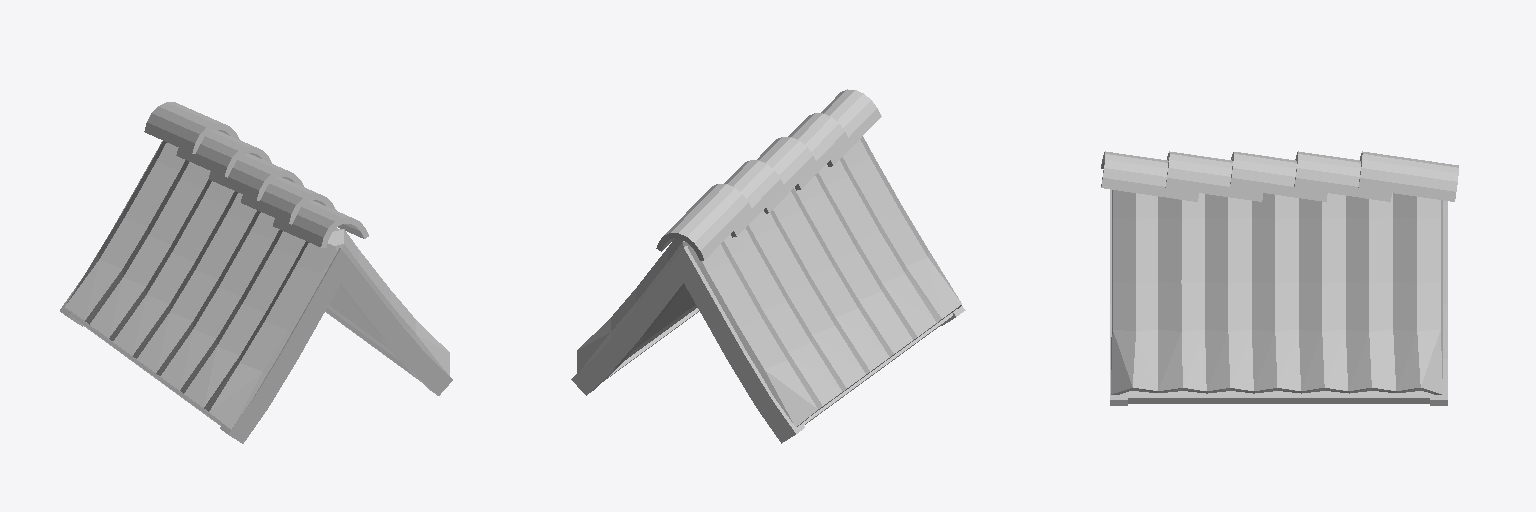
File: Roof_2x4_RoundTile.obj
3 renders of one model, left to right at view 1: azimuth 30°, elevation 25°; view 2: azimuth 150°, elevation 25°; view 3: azimuth 270°, elevation 25°, orthographic.
Parts seen in each view (by area): view 1: Roof_2x4_RoundTile; view 2: Roof_2x4_RoundTile; view 3: Roof_2x4_RoundTile.
Part boxes in pixels (bbox=[...]): Roof_2x4_RoundTile: bbox=[60, 102, 452, 443]; Roof_2x4_RoundTile: bbox=[571, 89, 965, 443]; Roof_2x4_RoundTile: bbox=[1101, 151, 1458, 405].
Size of the model in its own units: 3.29 by 2.67 by 4.23.